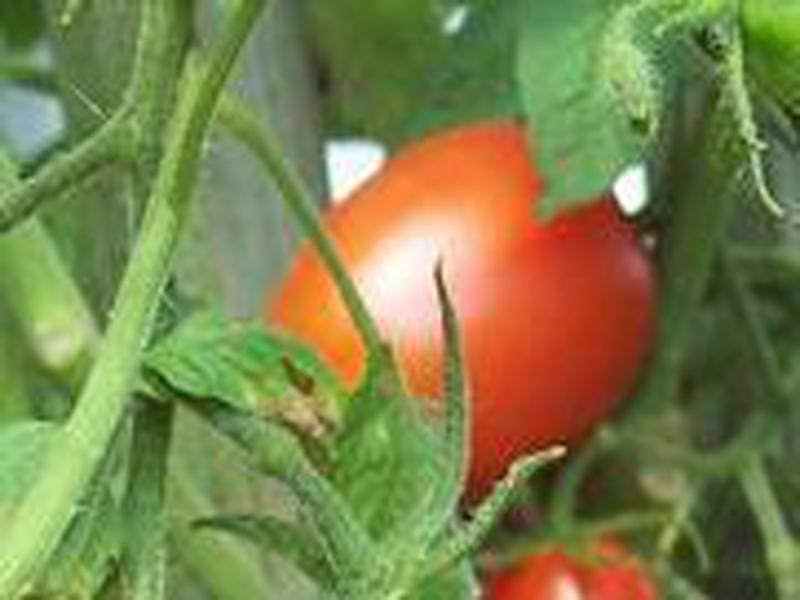Tomato: (274, 119, 654, 486)
